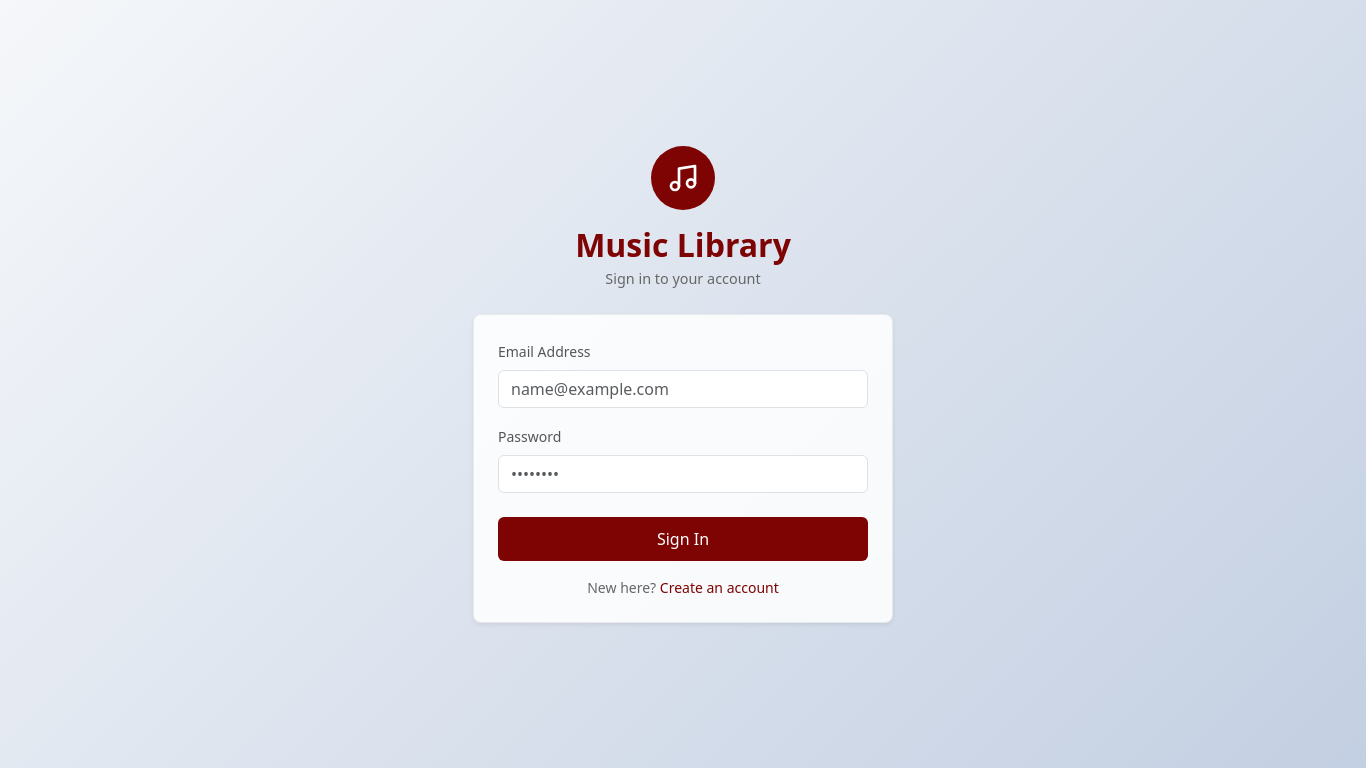
Scenario: Login component › validation errors on empty submit › shows email required error
Click the button "Sign In" at (683, 538), box [498, 516, 868, 560]
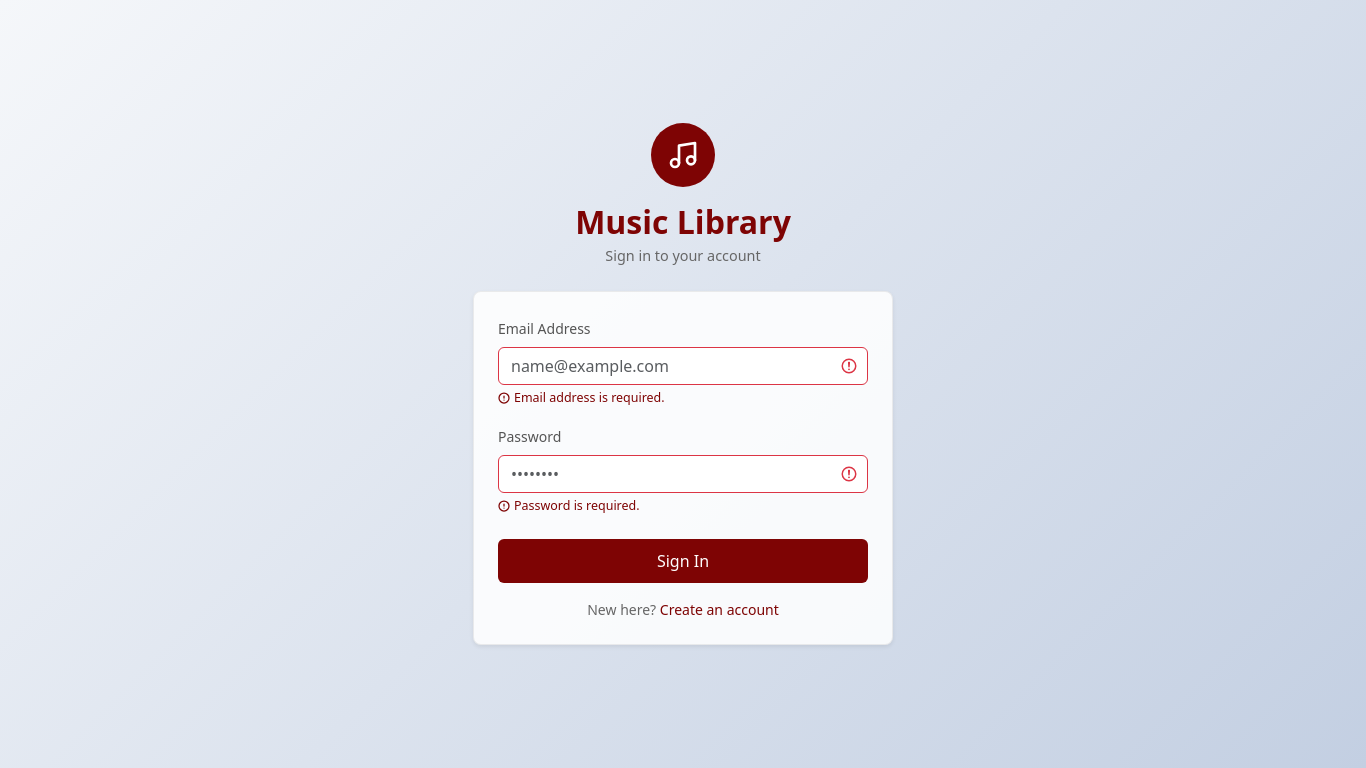
Now the text "Email address is required." is shown, box [498, 389, 665, 406]
